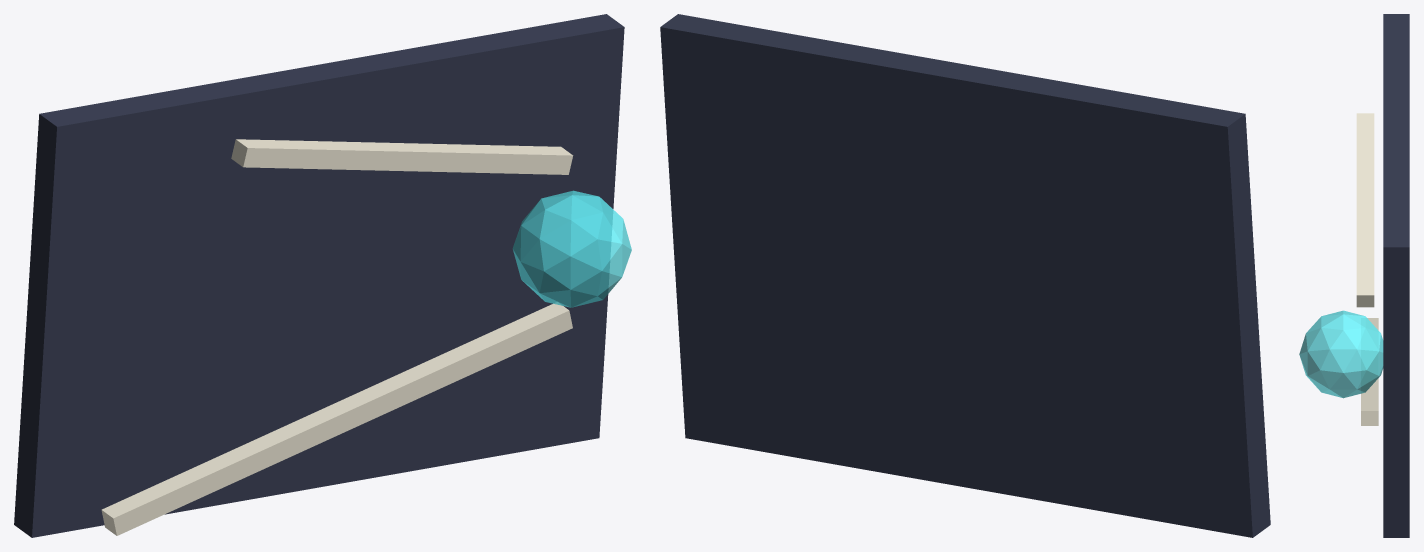
The model's file is 02_world_prop_polish.glb.
The picture shows the model from 3 angles, left to right: view 1: azimuth 30°, elevation 25°; view 2: azimuth 150°, elevation 25°; view 3: azimuth 270°, elevation 25°; orthographic projection. The views are drawn at different scales.
Parts seen in each view (by area): view 1: object_overlay_plate, edge_wear_a, glow_socket, edge_wear_b; view 2: object_overlay_plate; view 3: object_overlay_plate, glow_socket, edge_wear_b, edge_wear_a.
Part boxes in pixels (x1=…): object_overlay_plate: x1=14, y1=14, x2=624, y2=537; edge_wear_a: x1=101, y1=302, x2=572, y2=535; glow_socket: x1=512, y1=190, x2=631, y2=307; edge_wear_b: x1=231, y1=139, x2=573, y2=174; object_overlay_plate: x1=660, y1=14, x2=1270, y2=537; object_overlay_plate: x1=1383, y1=14, x2=1409, y2=537; glow_socket: x1=1299, y1=310, x2=1383, y2=398; edge_wear_b: x1=1356, y1=113, x2=1374, y2=307; edge_wear_a: x1=1361, y1=318, x2=1378, y2=425.
Size of the model in its own units: 1.15 by 0.8198 by 0.25.
